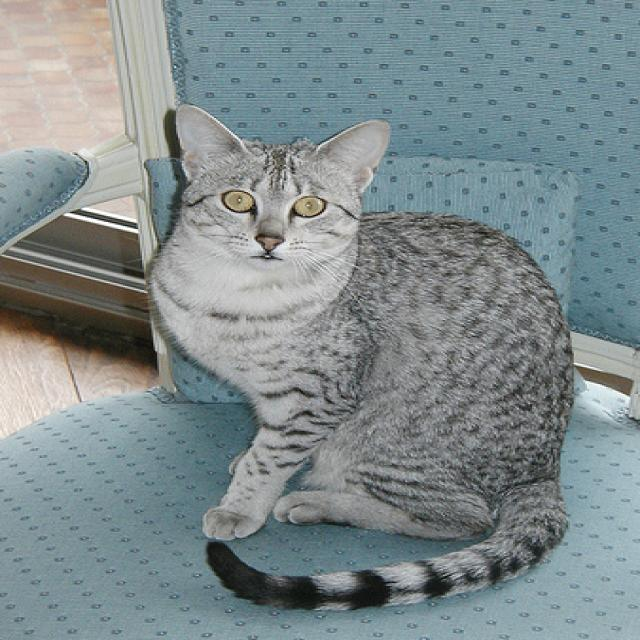Egyptian Mau: (144, 97, 577, 613)
